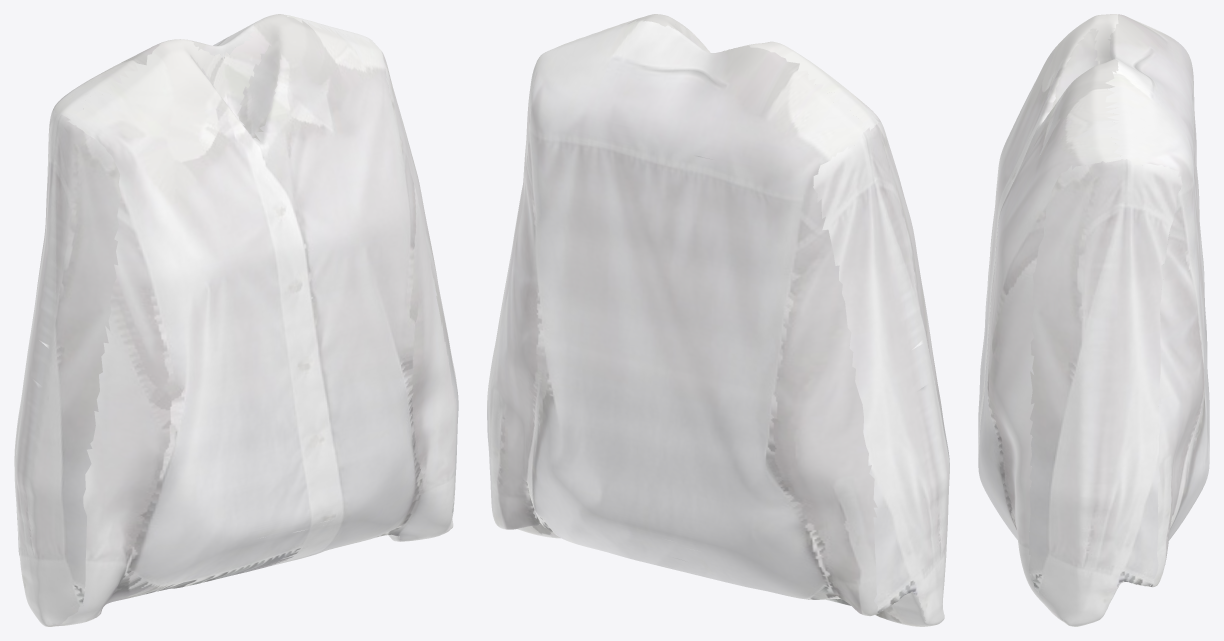
Rendered from NF013-photo-v4.glb.
3 views of the same model, side by side, from view 1: azimuth 30°, elevation 25°; view 2: azimuth 150°, elevation 25°; view 3: azimuth 270°, elevation 25° (orthographic). The views are drawn at different scales.
Parts seen in each view (by area): view 1: NF013_worn_photo_fitted; view 2: NF013_worn_photo_fitted; view 3: NF013_worn_photo_fitted.
Boxes of the visible parts, bbox=[...] form: NF013_worn_photo_fitted: bbox=[14, 14, 458, 626]; NF013_worn_photo_fitted: bbox=[487, 14, 949, 626]; NF013_worn_photo_fitted: bbox=[978, 14, 1209, 626].
Bounding box in the file's own units: 0.5683 × 0.6838 × 0.2893.
3 materials, 3 textured.
